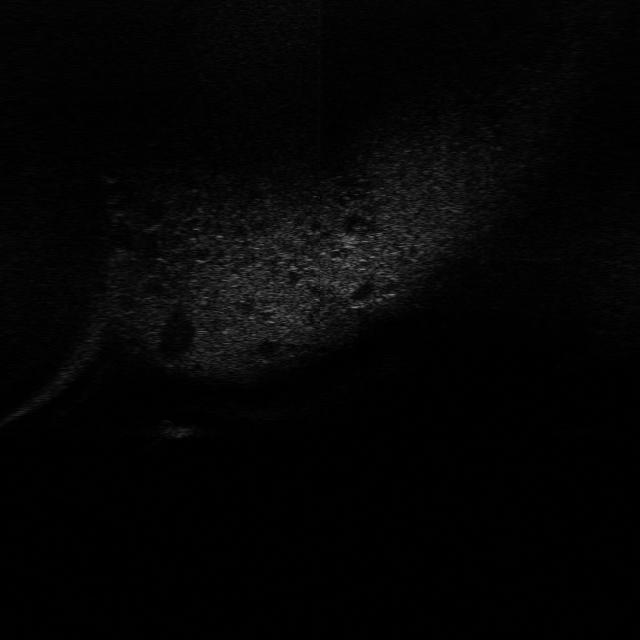cube: (151, 417, 208, 442)
